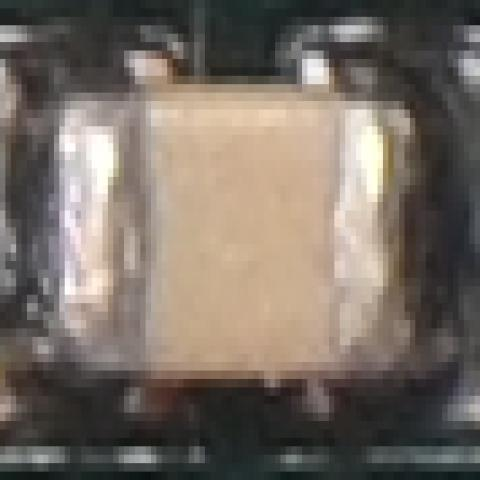Capacitor: (36, 62, 429, 395)
